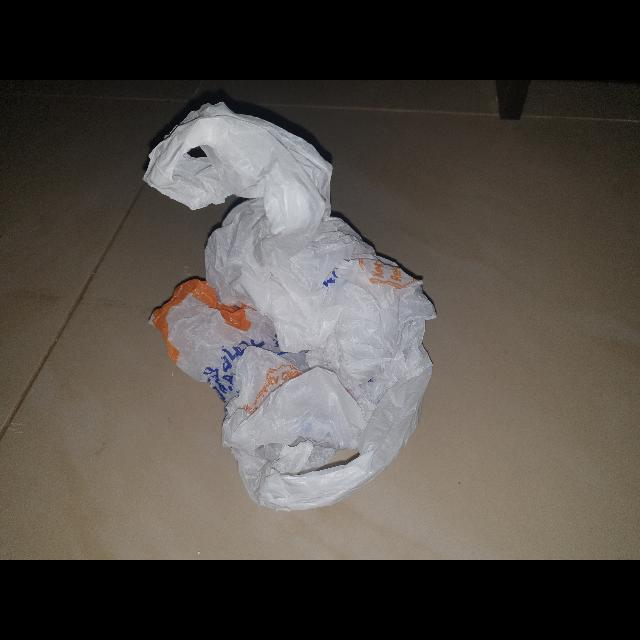plastic_bag: (138, 95, 446, 519)
